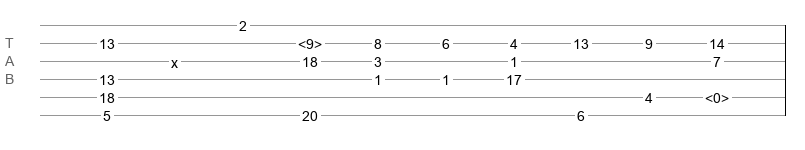1: (374, 72, 382, 82), (442, 72, 450, 82), (510, 54, 518, 64)
13: (99, 72, 115, 82), (99, 36, 115, 46), (573, 36, 589, 46)
14: (709, 36, 725, 46)
17: (506, 72, 522, 82)
18: (99, 90, 115, 100), (302, 54, 318, 64)
2: (239, 18, 247, 28)
20: (302, 108, 318, 118)
3: (374, 54, 382, 64)
4: (510, 36, 518, 46), (645, 90, 653, 100)
5: (103, 108, 111, 118)
6: (442, 36, 450, 46), (577, 108, 585, 118)
7: (713, 54, 721, 64)
8: (374, 36, 382, 46)
9: (645, 36, 653, 46)
harmonic: (298, 36, 322, 46), (705, 90, 729, 100)
x: (171, 55, 178, 63)
